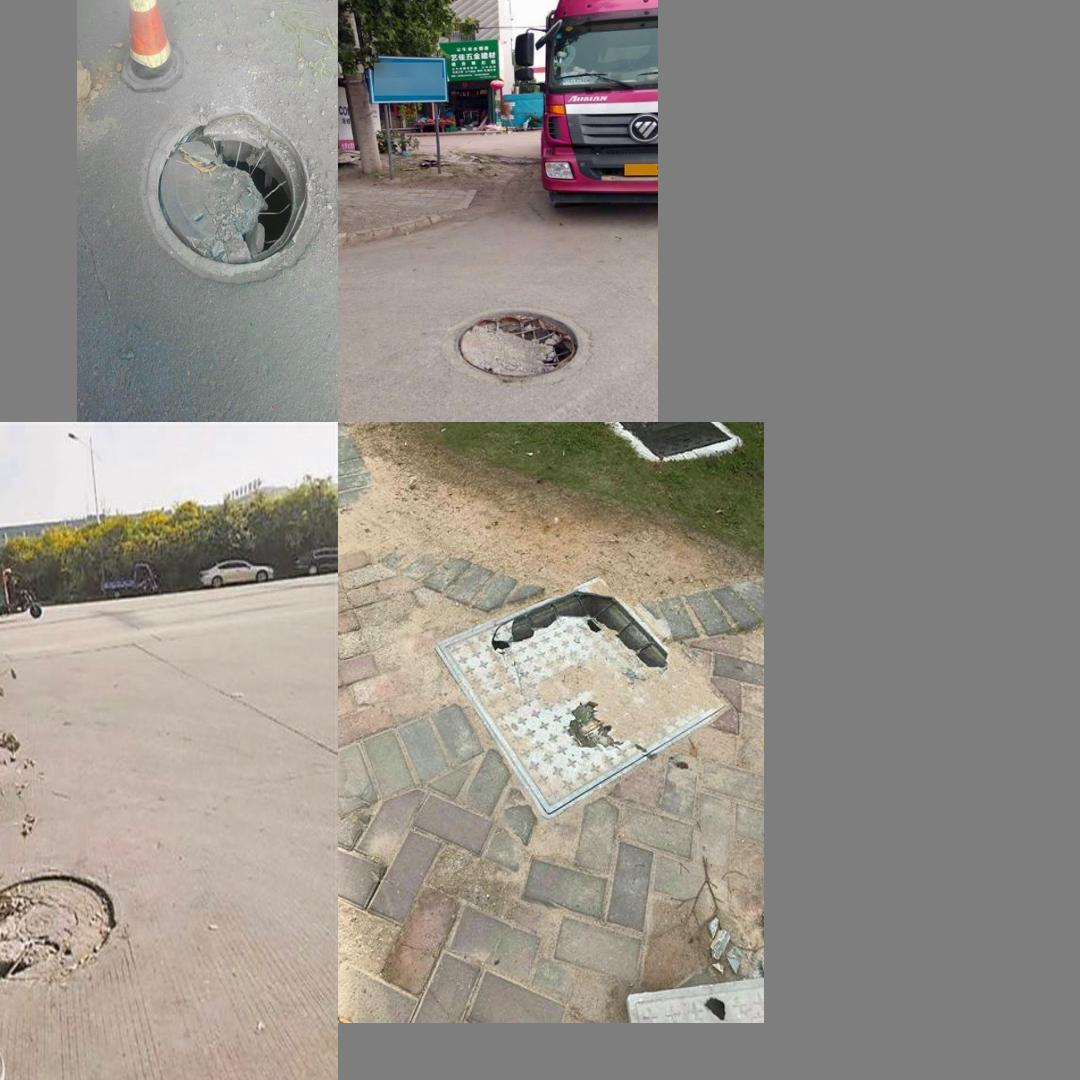broke: (430, 562, 720, 829), (139, 91, 329, 279), (0, 848, 133, 1010), (441, 305, 588, 385)
